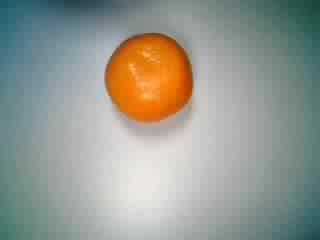orange: (99, 29, 197, 127)
